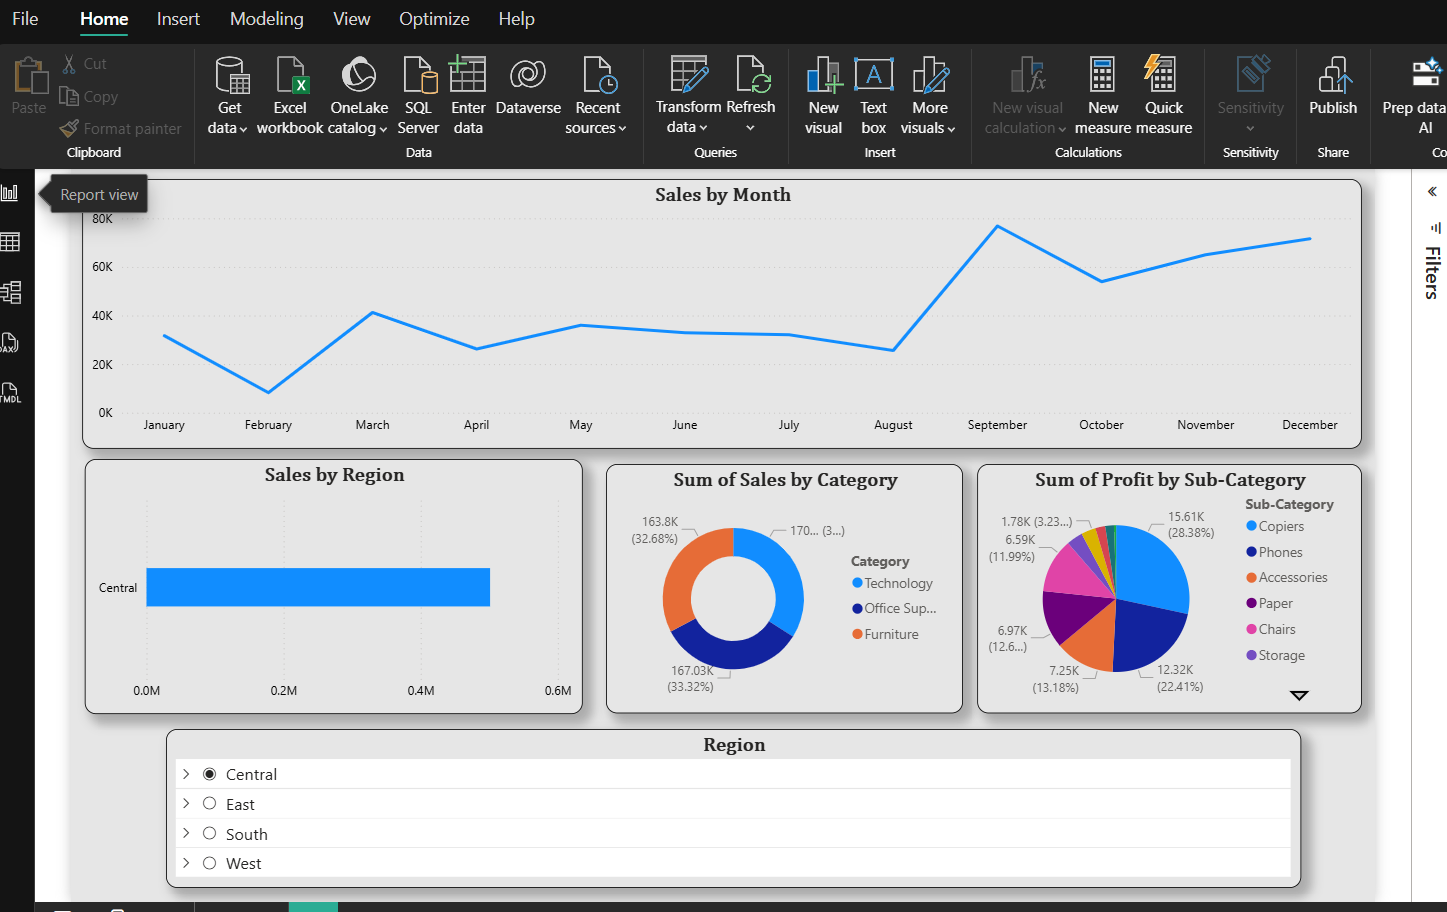

This screenshot's page, from the dashboard's own definition file:
{"tool":"powerbi","page":{"name":"Page 1","canvas":[1280,720],"ordinal":0},"visuals":[{"type":"lineChart","title":"Sales by Month","fields":{"Category":["superstore_clean.Order Date.Variation.Date Hierarchy.Month"],"Y":["Sum(superstore_clean.Sales)"]},"box":[11.3,9.9,1256.3,264.8],"z":0},{"type":"clusteredBarChart","title":"Sales by Region","fields":{"Category":["superstore_clean.Region"],"Y":["Sum(superstore_clean.Sales)"]},"box":[14.1,284.5,488.7,250.7],"z":1000},{"type":"donutChart","fields":{"Category":["superstore_clean.Category"],"Y":["Sum(superstore_clean.Sales)"]},"box":[525.4,290.1,350.7,245.1],"z":2000},{"type":"pieChart","fields":{"Category":["superstore_clean.Sub-Category"],"Y":["Sum(superstore_clean.Profit)"]},"box":[890.1,290.1,377.5,245.1],"z":3000},{"type":"listSlicer","fields":{"Values":["superstore_clean.Region","superstore_clean.Category"]},"box":[93,549.3,1114.1,156.3],"z":3001}]}

Visuals, with their boxes on the page's 1280x720 design canvas (x1, y1, x2, y2). These are canvas units, not pixel positions in the 1447x912 screenshot, which may show the page scaled, cropped or inside an application window:
"Sales by Month" lineChart: [left=11, top=10, right=1268, bottom=275]
"Sales by Region" clusteredBarChart: [left=14, top=284, right=503, bottom=535]
donutChart - superstore_clean.Category x Sum(superstore_clean.Sales): [left=525, top=290, right=876, bottom=535]
pieChart - superstore_clean.Sub-Category x Sum(superstore_clean.Profit): [left=890, top=290, right=1268, bottom=535]
listSlicer - superstore_clean.Region x superstore_clean.Category: [left=93, top=549, right=1207, bottom=706]
